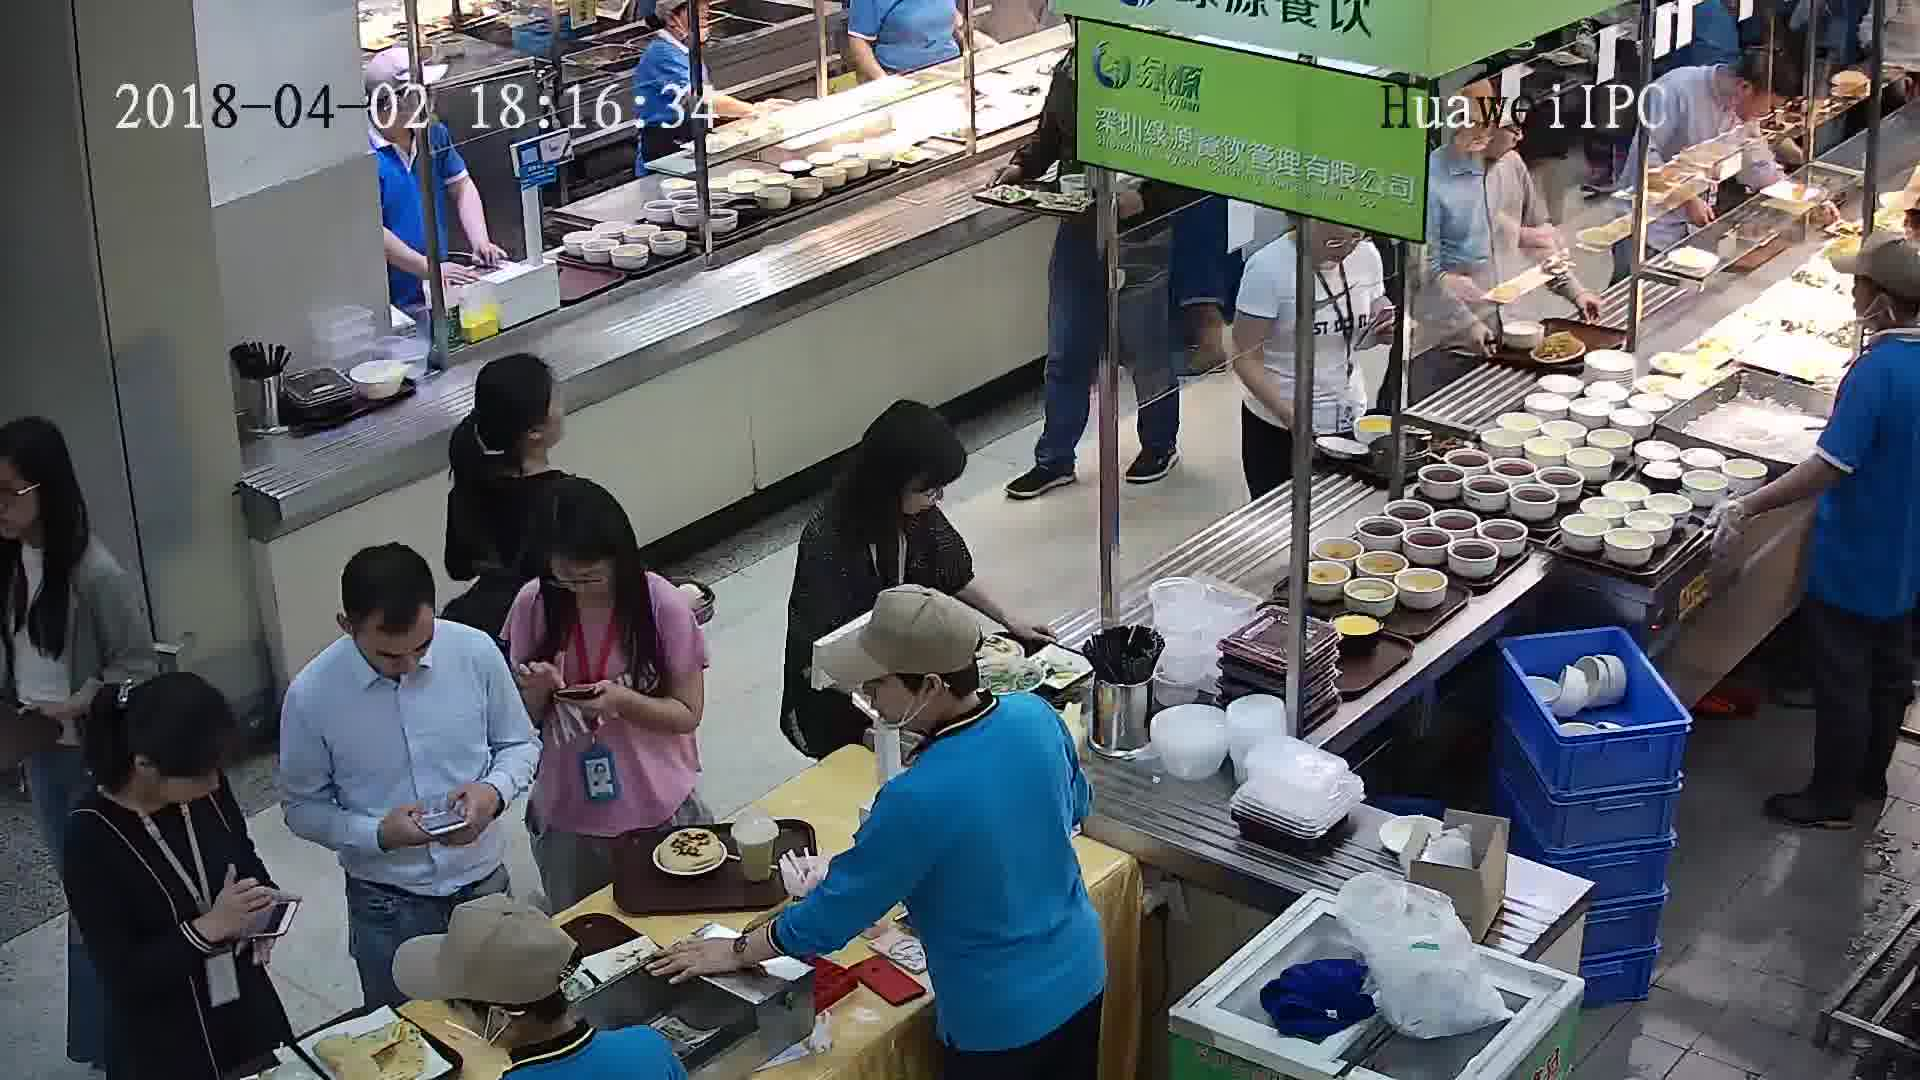face: (519, 373, 590, 444), (364, 611, 432, 679)
person: (834, 582, 1070, 849), (421, 903, 687, 1080), (286, 539, 512, 737), (56, 666, 247, 889), (795, 396, 975, 580), (506, 481, 700, 647), (442, 349, 611, 538), (1244, 175, 1405, 332), (1, 413, 127, 608), (1826, 227, 1919, 408), (368, 77, 454, 181), (1673, 53, 1772, 124), (633, 1, 717, 70)
